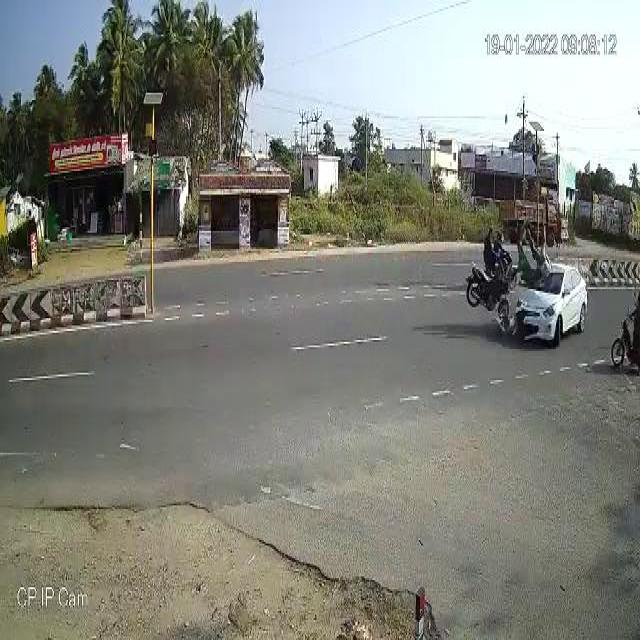accident: (462, 216, 593, 351)
